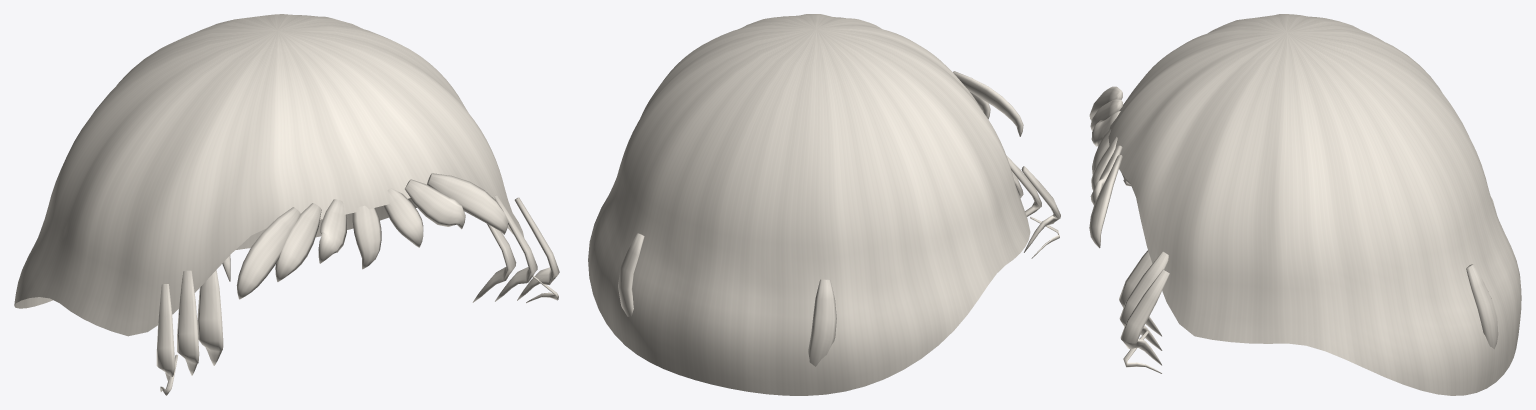
The picture shows the model from 3 angles, left to right: view 1: azimuth 30°, elevation 25°; view 2: azimuth 150°, elevation 25°; view 3: azimuth 270°, elevation 25°; orthographic projection. The views are drawn at different scales.
Visible parts, largest first — view 1: Portrait hair b; view 2: Portrait hair b; view 3: Portrait hair b.
Part boxes in pixels (x1,y1,x2,y2): Portrait hair b: (14,14,559,395); Portrait hair b: (588,14,1060,395); Portrait hair b: (1089,14,1521,395).
Bounding box in the file's own units: 1.03 × 0.7454 × 0.9259.
Materials: 1 (1 with a texture image).
